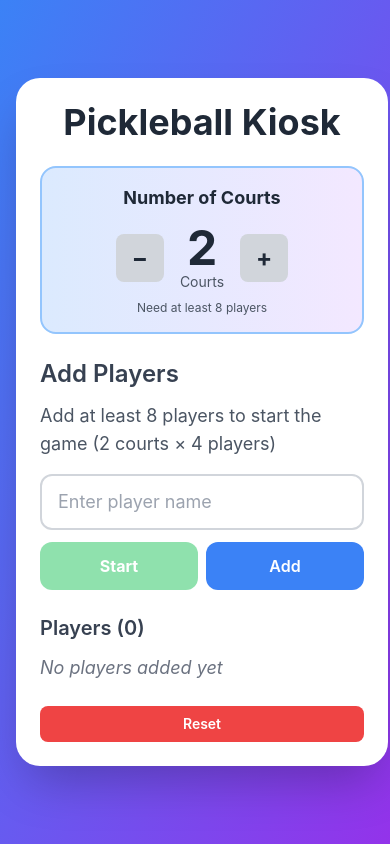
Test: PlayerSetup › Court Count Selection › increments court count when plus button is clicked
# Find the + button (there are multiple, get the first one for mobile view)
Click the button "+" at (264,258), box [240,234,288,282]
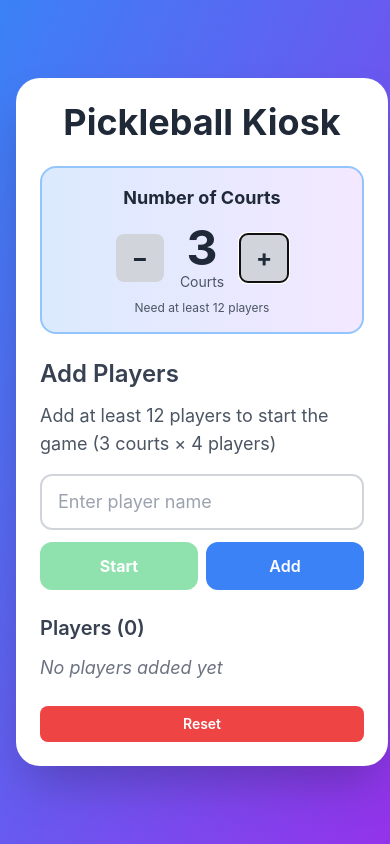
Check: the text "3" is shown, box [186,218,218,277]
